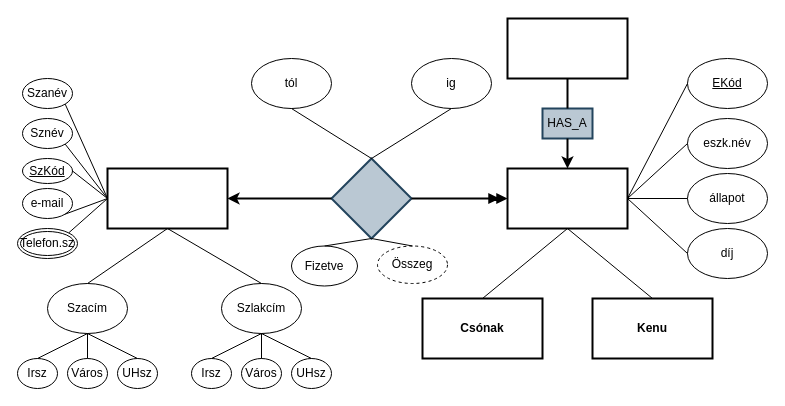
This 785x406 diagram has some shape labels left out. Here are the shapes that lost their labels. From the top down, the box of each, then its label:
(506, 17, 628, 79): CsónakHáz
(106, 167, 228, 229): SZEMÉLY
(330, 157, 412, 239): KÖLCSÖN
(506, 167, 628, 229): ESZKÖZ
